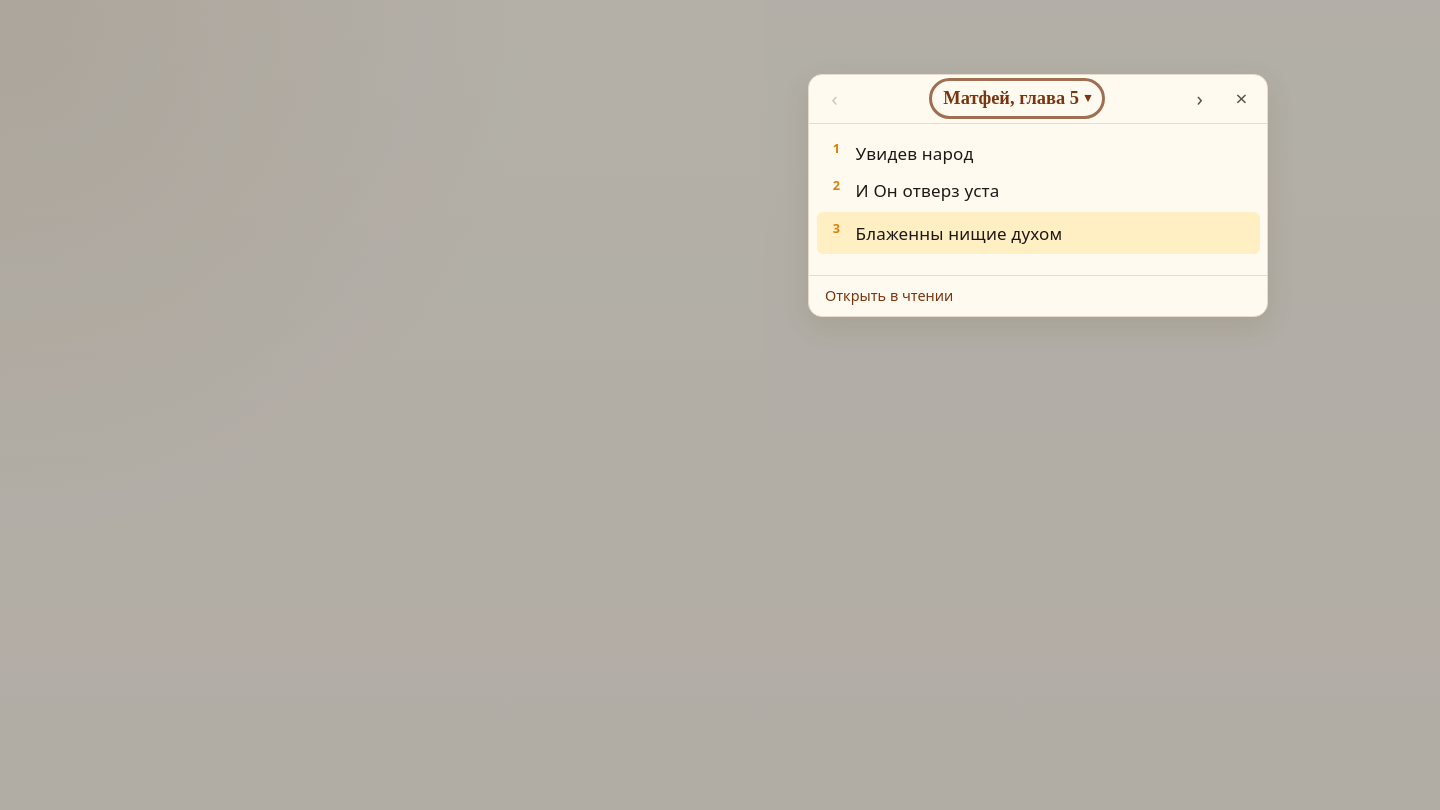
ContextPanel › picks a chapter from the grid behind the title
The width and height of the screenshot is (1440, 810).
Expected: the text "Блаженны нищие духом" is shown, x1=856 y1=221 x2=1062 y2=244
Click the button "Матфей, глава 5▾".
click(1017, 99)  # box x1=935 y1=84 x2=1099 y2=113
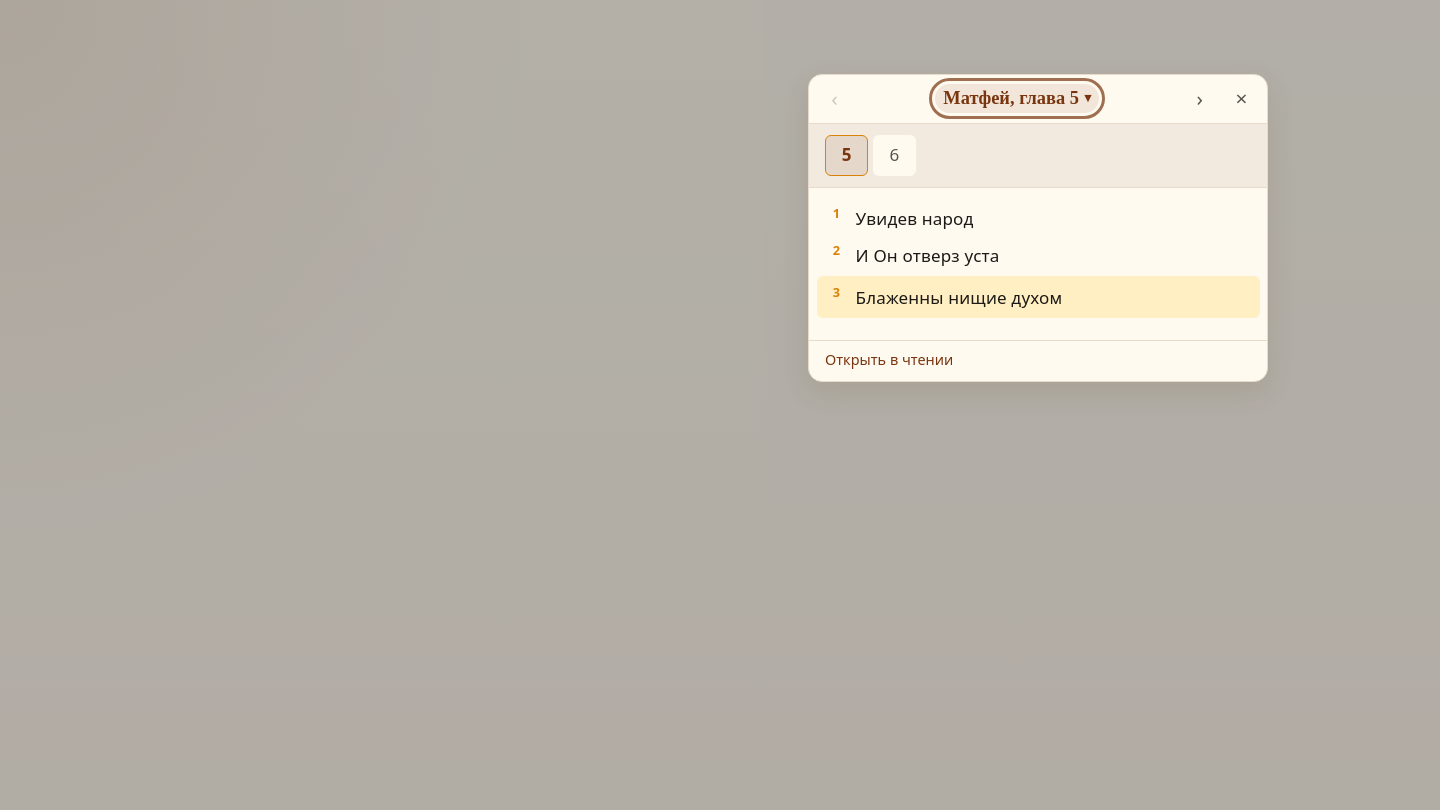
Expected: the button with class "num" reads "5", x1=825 y1=135 x2=868 y2=176
Click the button with class "num" showing "6".
click(894, 155)  # box x1=873 y1=135 x2=916 y2=176
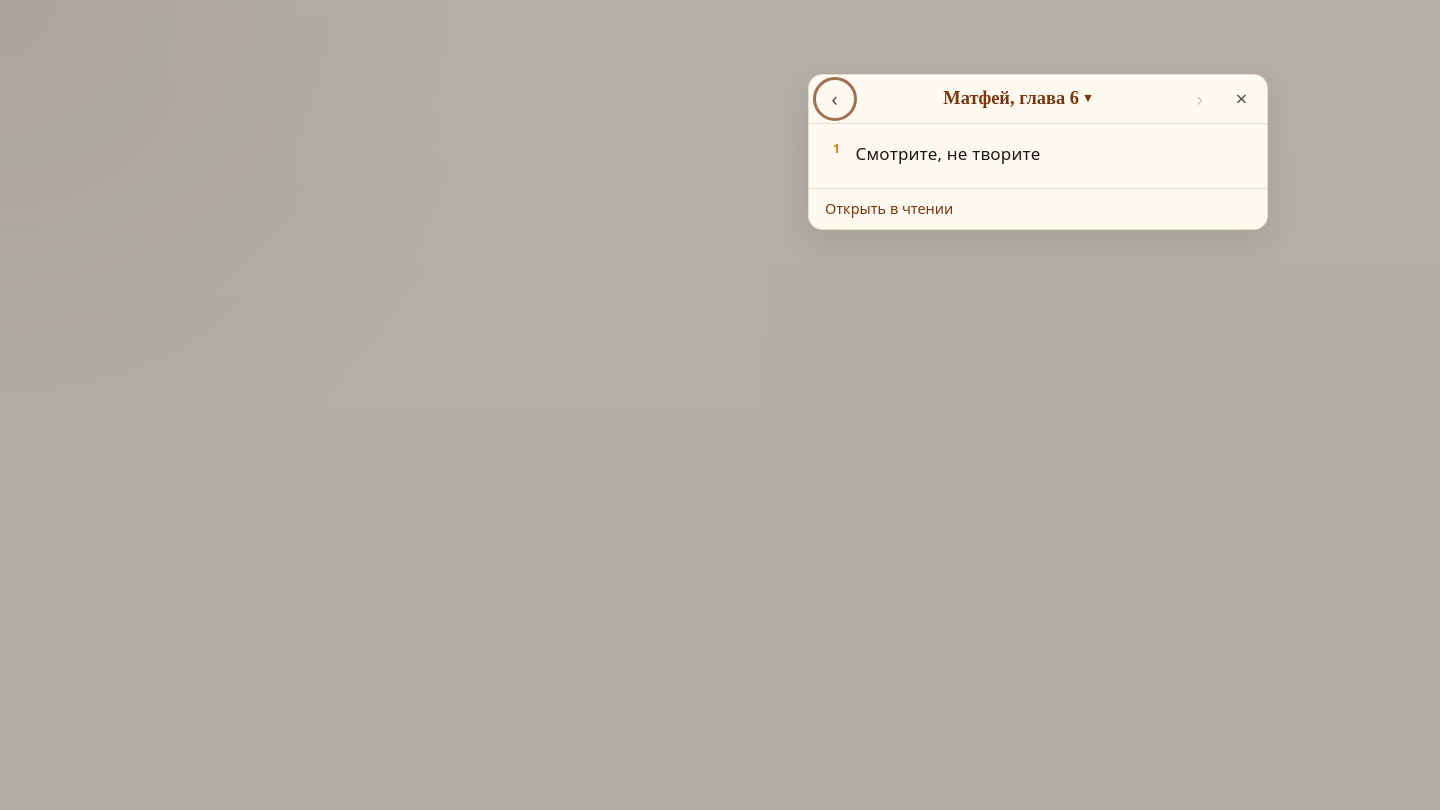
Expected: the text "Смотрите, не творите" is shown, x1=856 y1=142 x2=1040 y2=165
